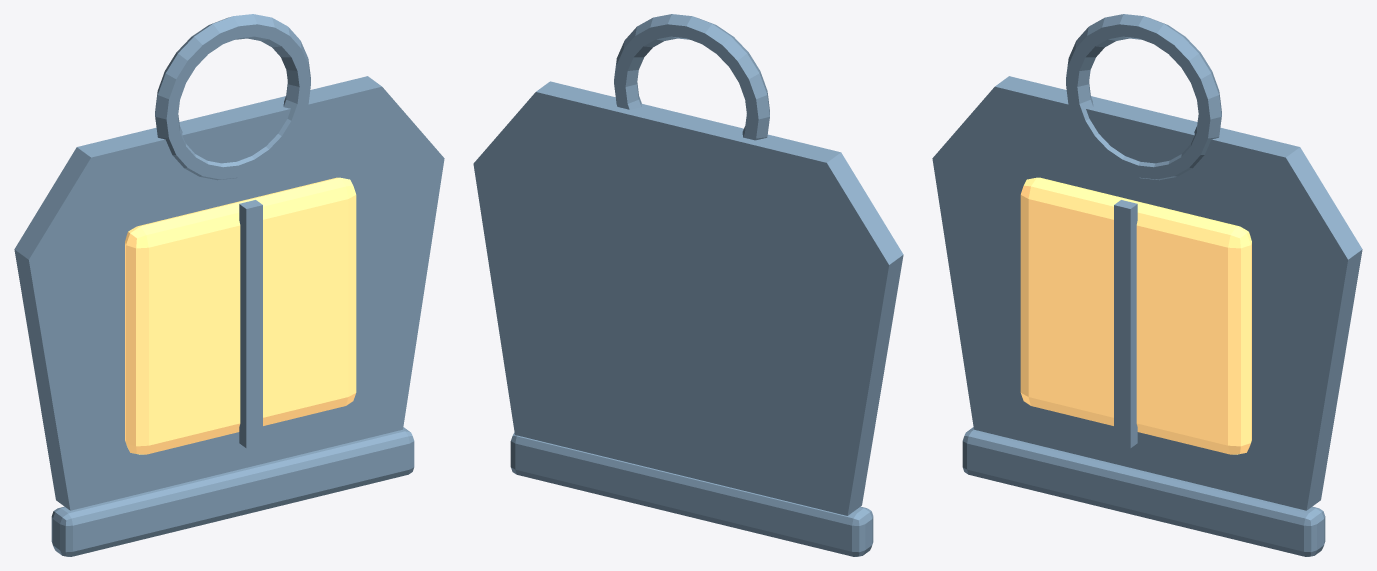
Rendered from lantern-verbs.glb.
The picture shows the model from 3 angles, left to right: view 1: azimuth 30°, elevation 25°; view 2: azimuth 150°, elevation 25°; view 3: azimuth 330°, elevation 25°; orthographic projection.
Visible parts, largest first — view 1: Lantern hanging loop.001, Amber lantern glass.001; view 2: Lantern hanging loop.001; view 3: Lantern hanging loop.001, Amber lantern glass.001.
Boxes of the visible parts, box(x1,y1,x2,y2) form: Lantern hanging loop.001: box(14, 14, 444, 556); Amber lantern glass.001: box(125, 177, 356, 454); Lantern hanging loop.001: box(473, 14, 903, 556); Lantern hanging loop.001: box(932, 14, 1362, 556); Amber lantern glass.001: box(1020, 177, 1251, 454).
Bounding box in the file's own units: 0.02 × 0.0229 × 0.0027.
